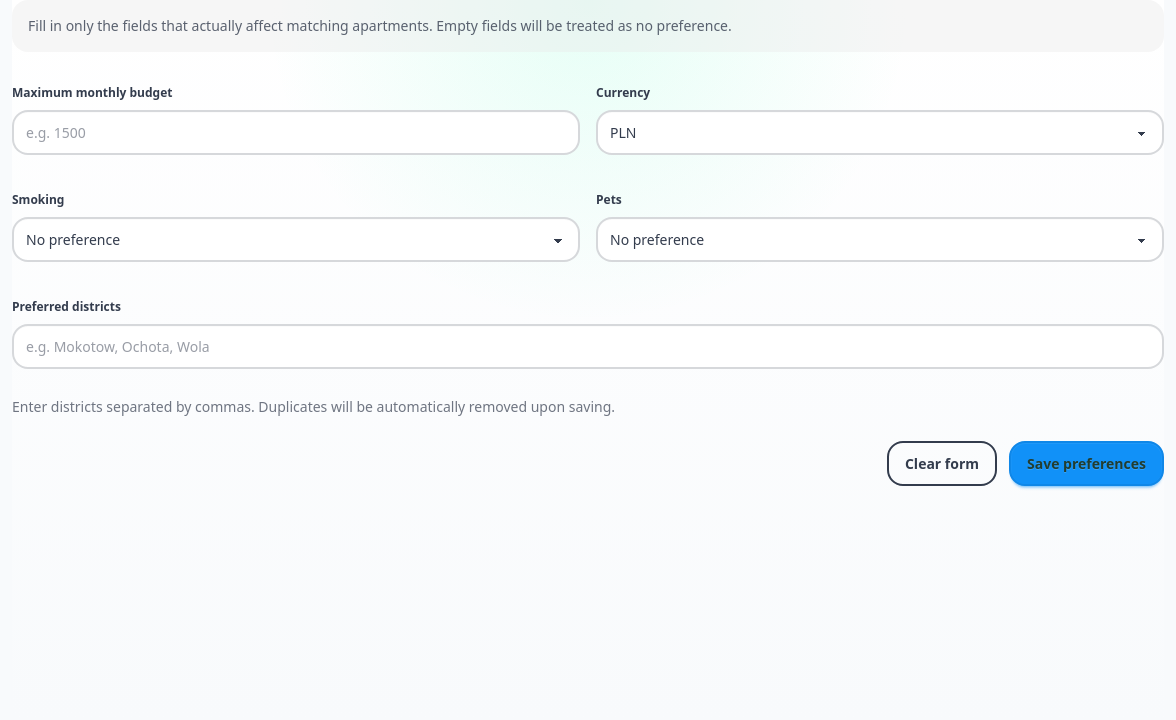
it: TenantPreferencesForm › blocks submit and shows local validation error for negative max price
Type "-1" into the number field with id "tenant-preferences-max-price" at [296, 132], box x1=12 y1=110 x2=580 y2=155
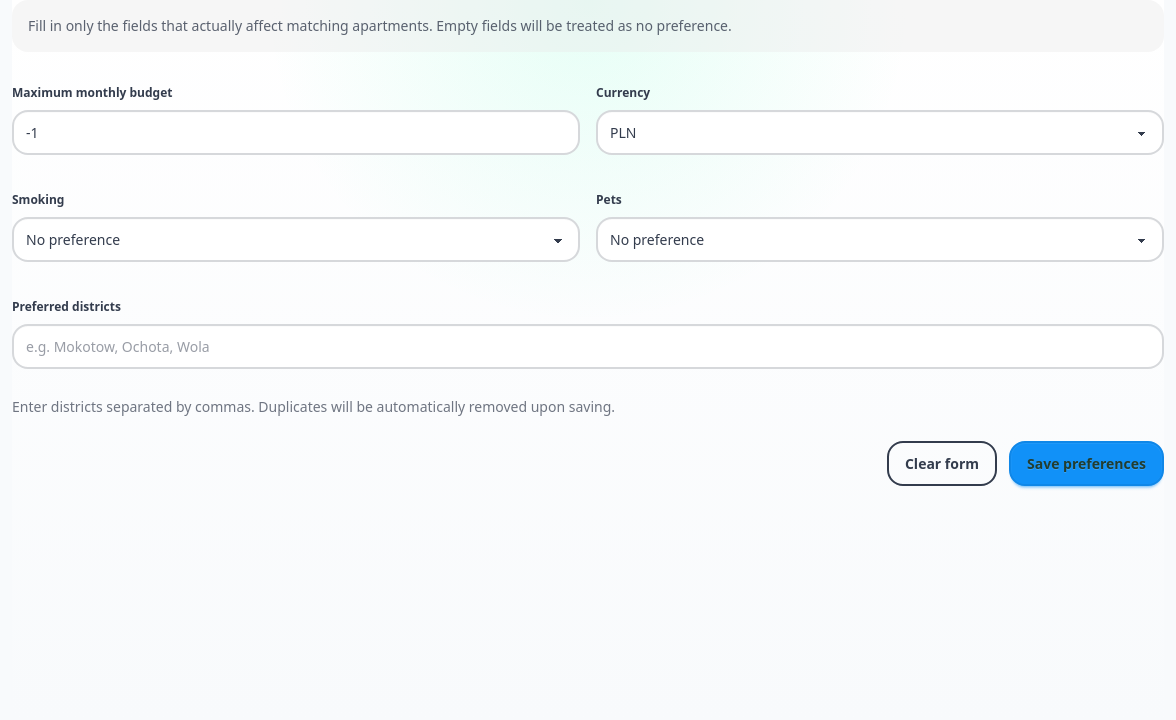
Submit the form
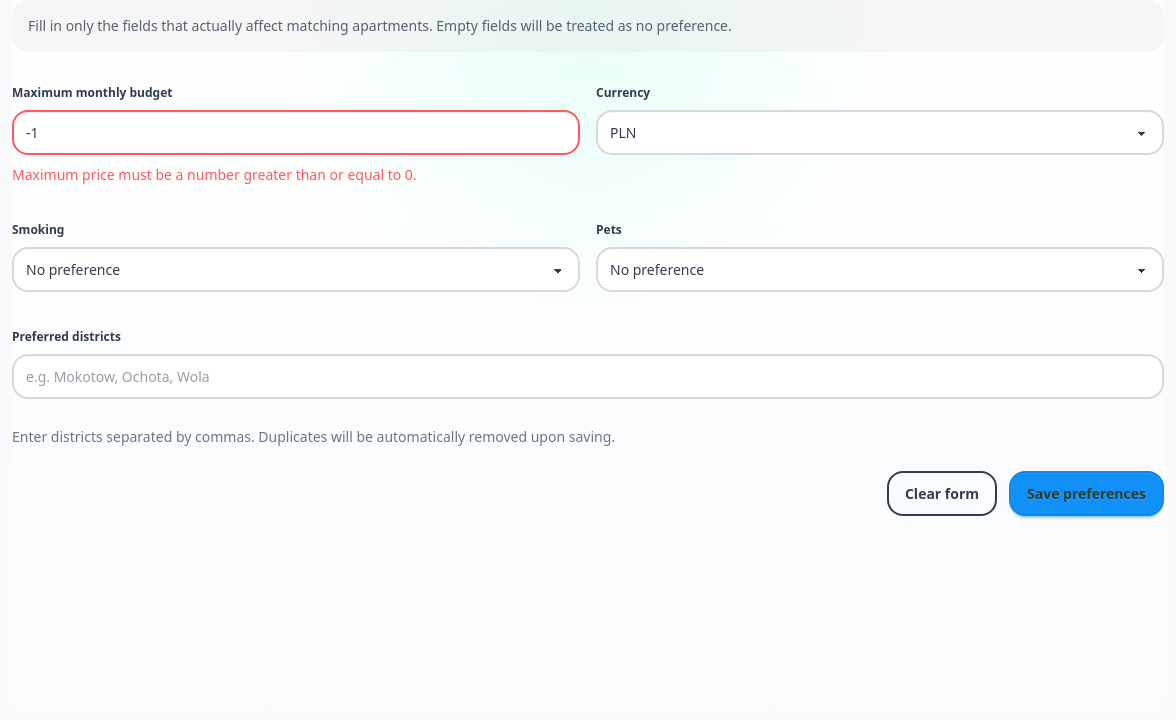
Expected: the text "Maximum price must be a number greater than or equal to 0." is shown, x1=12 y1=165 x2=417 y2=184
